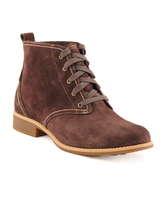shoes: (10, 28, 154, 160)
